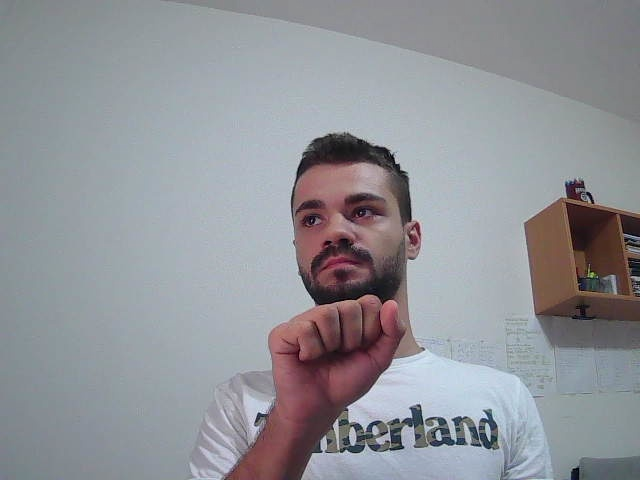a: (242, 285, 411, 476)
